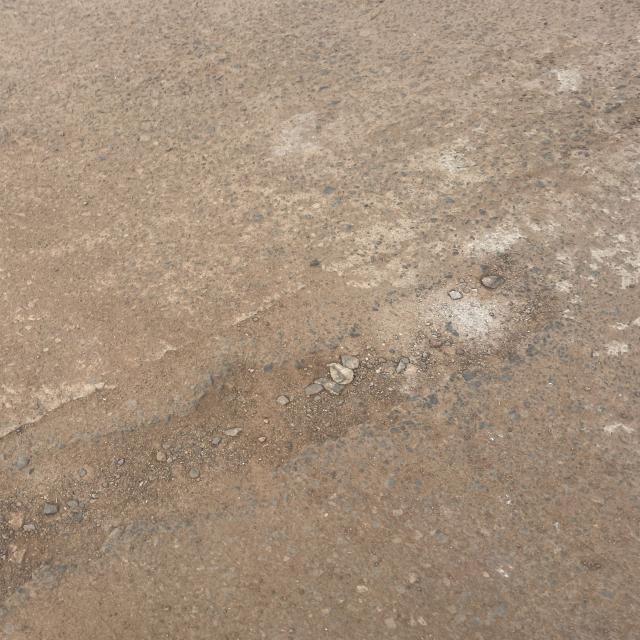D43: (25, 207, 600, 611)
